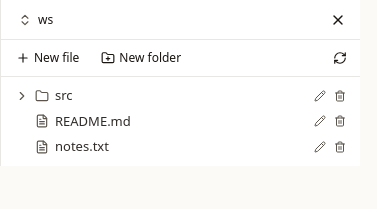
Test case: WorkspacePanel — inline editor › saves edits via saveFile and returns to preview
This screenshot has width=377, height=209.
Expected: the button with test id "tree-row-README.md" is shown, [11,108,310,134]
Step 1. Click the button with test id "tree-row-notes.txt" → (82, 146), box [11,134,310,160]
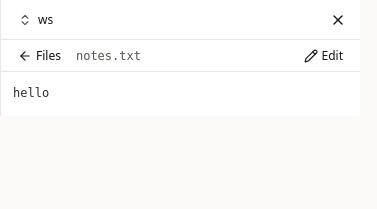
Result: the text "hello" is shown at [13,86,49,100]
Step 2. Click the button "Edit" → (323, 56), box [294,42,352,70]
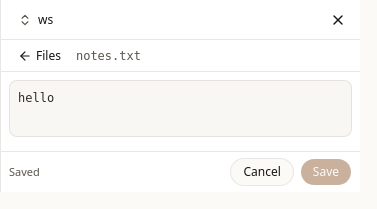
Step 3. Type " world" into the text box → (180, 108), box [9,80,352,137]
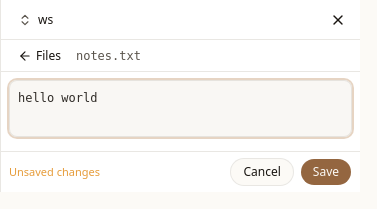
Step 4. Click the button "Save" → (326, 172), box [300,158,352,186]
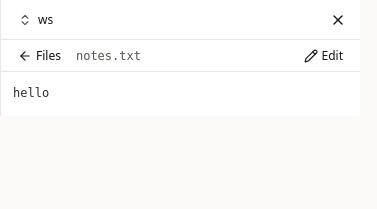
Result: the text "hello" is shown at [13,86,49,100]
